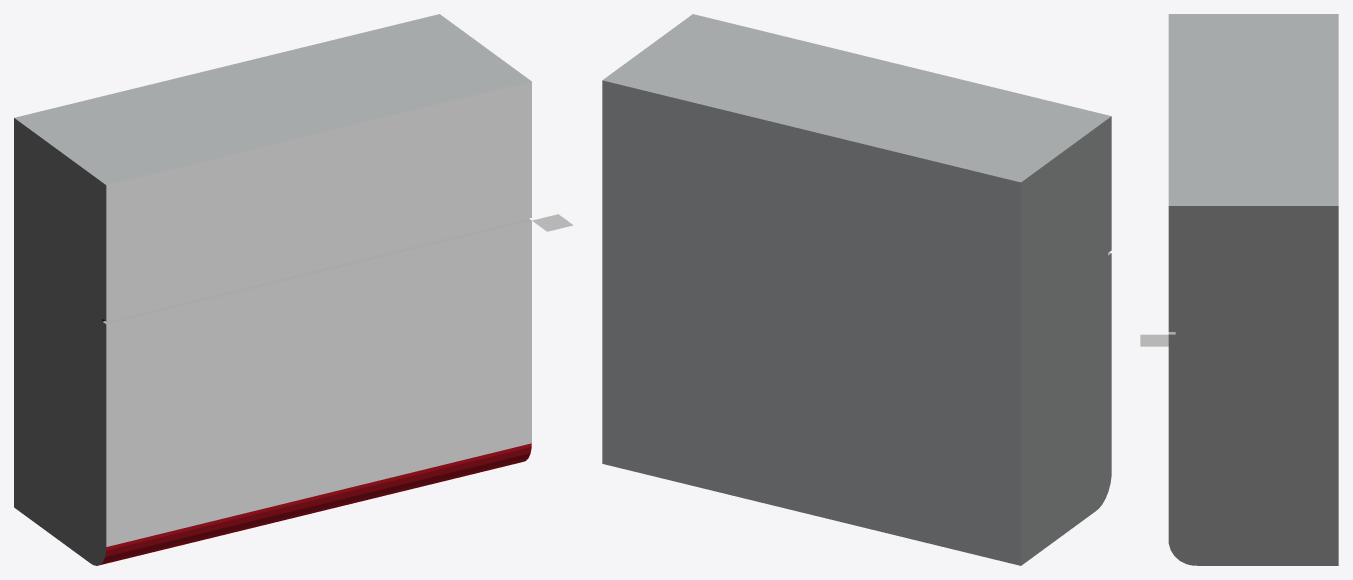
Rendered from diaoban.obj.
The picture shows the model from 3 angles, left to right: view 1: azimuth 30°, elevation 25°; view 2: azimuth 150°, elevation 25°; view 3: azimuth 270°, elevation 25°; orthographic projection. The views are drawn at different scales.
Visible parts, largest first — view 1: diaoban2, diaoban1; view 2: diaoban2, diaoban1; view 3: diaoban1, diaoban2, cube.
Part boxes in pixels (box(x1,y1,x2,y2)): diaoban2: box(14, 59, 531, 565); diaoban1: box(14, 14, 500, 552); diaoban2: box(602, 14, 1111, 565); diaoban1: box(603, 36, 1100, 565); diaoban1: box(1188, 14, 1338, 565); diaoban2: box(1168, 14, 1338, 565); cube: box(1140, 334, 1168, 346).
Bounding box in the file's own units: 1.06 × 0.875 × 0.4375.
6 materials, 5 textured.
